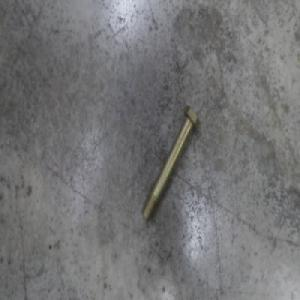Bolt: (141, 104, 199, 223)
